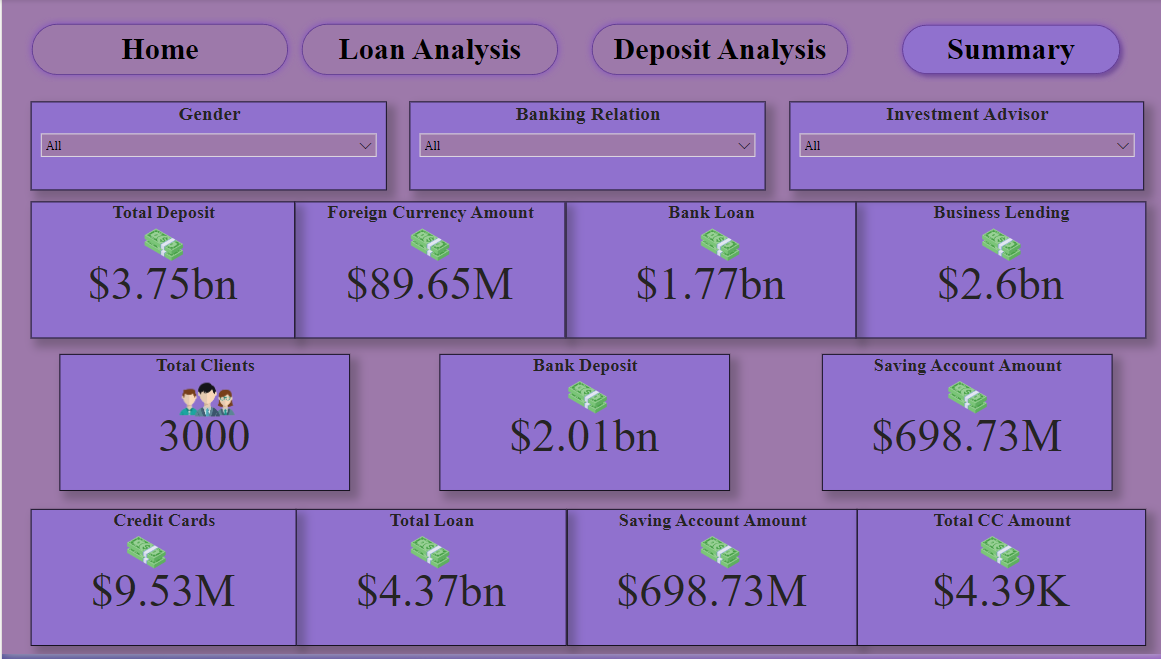

Layout of this report page (visuals, bound fields, positions):
{"tool":"powerbi","page":{"name":"Summary","canvas":[1280,720],"ordinal":3},"visuals":[{"type":"shape","box":[959.5,19.8,297.6,72.3],"z":0},{"type":"shape","box":[640.6,19.8,297.6,72.3],"z":1000},{"type":"shape","box":[321.7,19.8,297.6,72.3],"z":2000},{"type":"slicer","title":"Banking Relation","fields":{"Values":["Clients - Banking.Banking Relationship"]},"box":[447.9,112,391.2,97.8],"z":3000},{"type":"slicer","title":"Gender","fields":{"Values":["Clients - Banking.Gender.Gender"]},"box":[31.2,112,391.2,97.8],"z":4000},{"type":"card","title":"Business Lending","fields":{"Values":["Sum(Clients - Banking.Business Lending)"]},"box":[938.3,222.5,318.9,150.2],"z":5000},{"type":"card","title":"Bank Loan","fields":{"Values":["Sum(Clients - Banking.Bank Loans)"]},"box":[619.4,222.5,318.9,150.2],"z":6000},{"type":"card","title":"Foreign Currency Amount","fields":{"Values":["Sum(Clients - Banking.Foreign Currency Account)"]},"box":[321.7,222.5,297.6,150.2],"z":7000},{"type":"card","title":"Saving Account Amount","fields":{"Values":["Banking Relationship.Saving Account Amount"]},"box":[620.8,559.8,318.9,150.2],"z":8000},{"type":"card","title":"Total Loan","fields":{"Values":["Banking Relationship.Total Loan"]},"box":[323.1,559.8,297.6,150.2],"z":9000},{"type":"card","title":"Credit Cards","fields":{"Values":["Sum(Clients - Banking.Credit Card Balance)"]},"box":[31.2,559.8,292,150.2],"z":10000},{"type":"card","title":"Saving Account Amount","fields":{"Values":["Banking Relationship.Saving Account Amount"]},"box":[901.4,389.8,318.9,150.2],"z":11000},{"type":"card","title":"Total Clients","fields":{"Values":["CountNonNull(Clients - Banking.Client ID)"]},"box":[63.8,389.8,318.9,150.2],"z":12000},{"type":"card","title":"Bank Deposit","fields":{"Values":["Sum(Clients - Banking.Bank Deposits)"]},"box":[480.5,389.8,318.9,150.2],"z":13000},{"type":"image","box":[151.7,413.9,148.8,51],"z":14000},{"type":"image","box":[724.3,243.8,130.4,53.9],"z":15000},{"type":"image","box":[405.4,243.8,130.4,53.9],"z":16000},{"type":"image","box":[1033.2,243.8,130.4,53.9],"z":17000},{"type":"image","box":[578.3,411,130.4,53.9],"z":18000},{"type":"image","box":[996.4,411,130.4,53.9],"z":19000},{"type":"image","box":[724.3,581.1,130.4,53.9],"z":20000},{"type":"image","box":[405.4,581.1,130.4,53.9],"z":21000},{"type":"image","box":[93.5,581.1,130.4,53.9],"z":22000},{"type":"slicer","title":"Investment Advisor","fields":{"Values":["Clients - Banking.Investment Advisor"]},"box":[866,112,389.8,97.8],"z":23000},{"type":"card","title":"Total Deposit","fields":{"Values":["Banking Relationship.Total Deposit"]},"box":[31.2,222.5,290.6,150.2],"z":24000},{"type":"card","title":"Total CC Amount","fields":{"Values":["Banking Relationship.Total CC Amount"]},"box":[939.7,559.8,317.5,150.2],"z":25000},{"type":"image","box":[1031.8,581.1,130.4,53.9],"z":26000},{"type":"image","box":[112,243.8,130.4,53.9],"z":27000},{"type":"shape","box":[24.1,19.8,297.6,72.3],"z":28000}]}

Visuals, with their boxes in screenshot pixels (x1, y1, x2, y2), scaled from the page's 1280x720 canvas onto the 1161x659 screenshot:
shape: bbox(870, 18, 1140, 84)
shape: bbox(581, 18, 851, 84)
shape: bbox(292, 18, 562, 84)
"Banking Relation" slicer: bbox(406, 103, 761, 192)
"Gender" slicer: bbox(28, 103, 383, 192)
"Business Lending" card: bbox(851, 204, 1140, 341)
"Bank Loan" card: bbox(562, 204, 851, 341)
"Foreign Currency Amount" card: bbox(292, 204, 562, 341)
"Saving Account Amount" card: bbox(563, 512, 852, 650)
"Total Loan" card: bbox(293, 512, 563, 650)
"Credit Cards" card: bbox(28, 512, 293, 650)
"Saving Account Amount" card: bbox(818, 357, 1107, 494)
"Total Clients" card: bbox(58, 357, 347, 494)
"Bank Deposit" card: bbox(436, 357, 725, 494)
image: bbox(138, 379, 273, 426)
image: bbox(657, 223, 775, 272)
image: bbox(368, 223, 486, 272)
image: bbox(937, 223, 1055, 272)
image: bbox(525, 376, 643, 426)
image: bbox(904, 376, 1022, 426)
image: bbox(657, 532, 775, 581)
image: bbox(368, 532, 486, 581)
image: bbox(85, 532, 203, 581)
"Investment Advisor" slicer: bbox(785, 103, 1139, 192)
"Total Deposit" card: bbox(28, 204, 292, 341)
"Total CC Amount" card: bbox(852, 512, 1140, 650)
image: bbox(936, 532, 1054, 581)
image: bbox(102, 223, 220, 272)
shape: bbox(22, 18, 292, 84)
